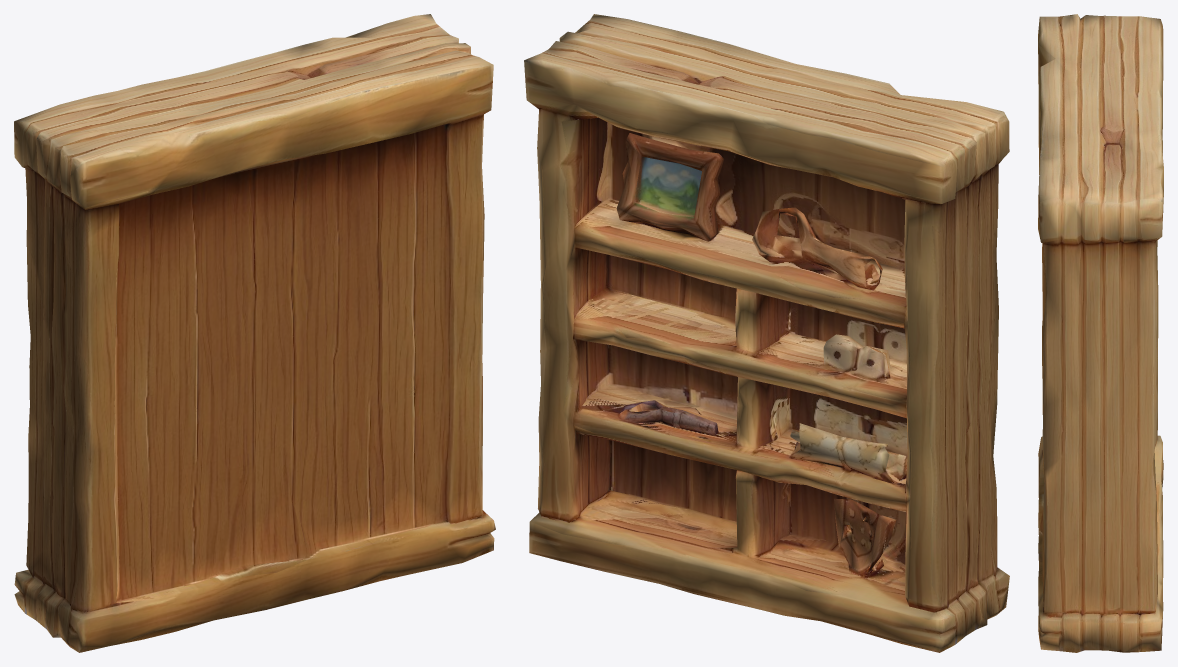
The model's file is SM_Env_DisplayShelf.fbx.
3 renders of one model, left to right at view 1: azimuth 30°, elevation 25°; view 2: azimuth 150°, elevation 25°; view 3: azimuth 270°, elevation 25°, orthographic. The views are drawn at different scales.
Parts seen in each view (by area): view 1: SM_Env_DisplayShelf; view 2: SM_Env_DisplayShelf; view 3: SM_Env_DisplayShelf.
Part boxes in pixels (bbox=[...]): SM_Env_DisplayShelf: bbox=[14, 14, 495, 652]; SM_Env_DisplayShelf: bbox=[524, 14, 1009, 652]; SM_Env_DisplayShelf: bbox=[1038, 14, 1163, 652].
Bounding box in the file's own units: 1.6 × 1.8 × 0.45.
